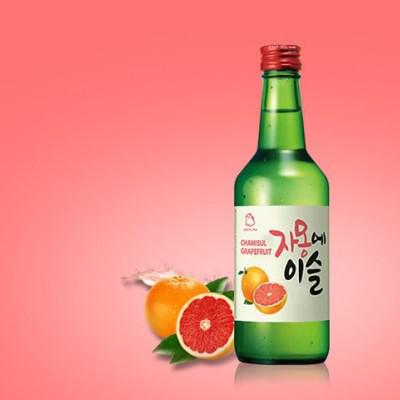soju: (231, 44, 336, 368)
